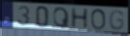0: (35, 6, 50, 29)
3: (16, 5, 32, 27)
G: (109, 10, 125, 31)
H: (70, 7, 90, 30)
O: (90, 8, 107, 31)
Q: (53, 7, 70, 29)
